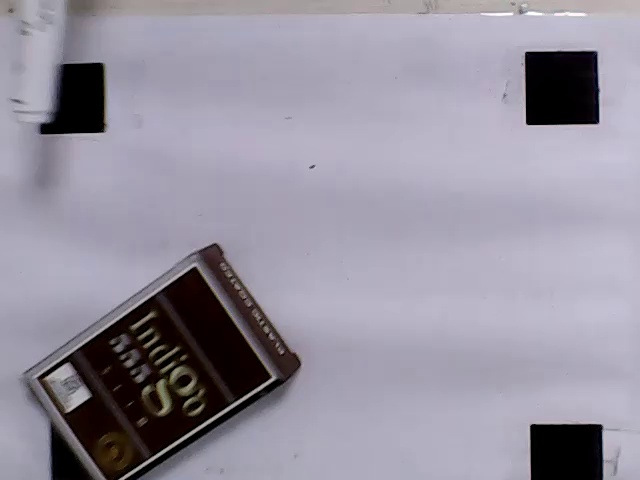BEX: (36, 266, 274, 480)
